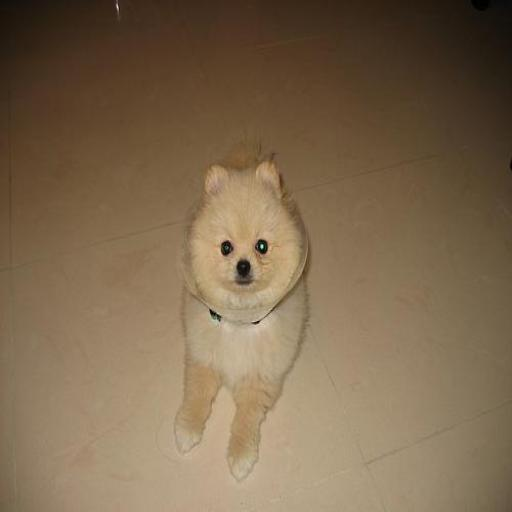dog_face: (200, 162, 280, 290)
